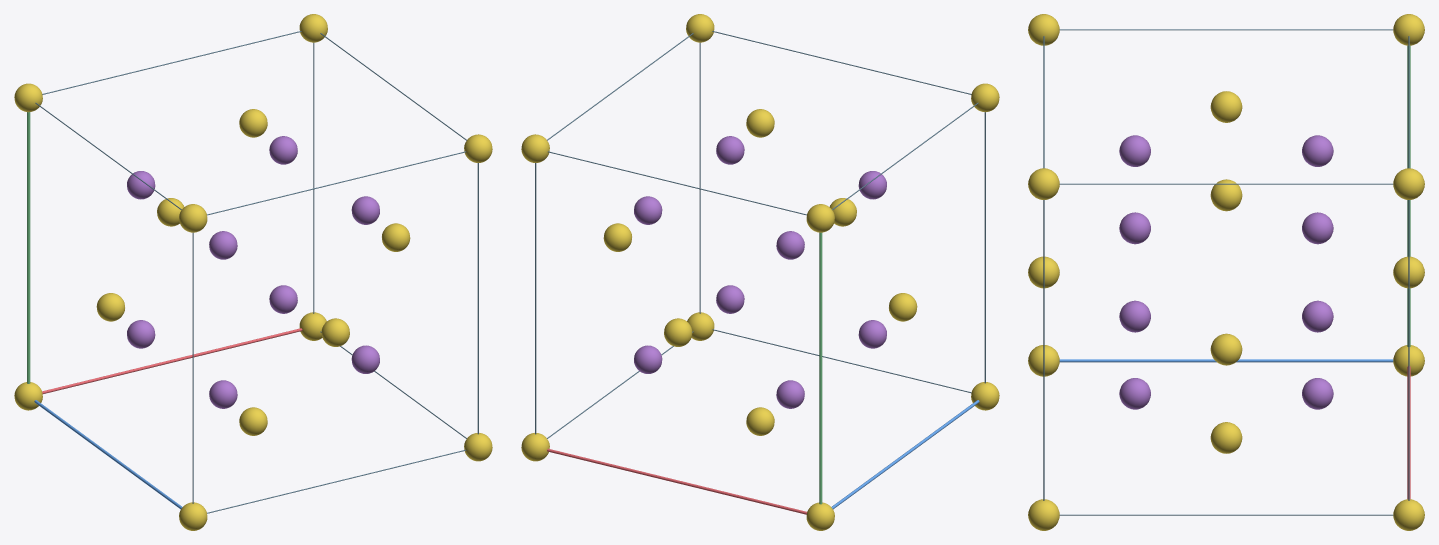
The model's file is chat-potassium-sulfide.glb.
3 views of the same model, side by side, from view 1: azimuth 30°, elevation 25°; view 2: azimuth 150°, elevation 25°; view 3: azimuth 270°, elevation 25° (orthographic). The views are drawn at different scales.
Visible parts, largest first — view 1: S · S · 1 (×14), Ô mạng và các trục a, b, c, K · K · 1 (×8); view 2: S · S · 1 (×14), Ô mạng và các trục a, b, c, K · K · 1 (×8); view 3: S · S · 1 (×14), K · K · 1 (×8), Ô mạng và các trục a, b, c.
Boxes of the visible parts, x1,y1,x2,y2 form: S · S · 1 (×14): [14, 14, 492, 530]; Ô mạng và các trục a, b, c: [27, 31, 478, 513]; K · K · 1 (×8): [127, 136, 379, 408]; S · S · 1 (×14): [521, 14, 999, 530]; Ô mạng và các trục a, b, c: [535, 31, 985, 514]; K · K · 1 (×8): [634, 136, 886, 408]; S · S · 1 (×14): [1028, 14, 1424, 530]; K · K · 1 (×8): [1119, 135, 1333, 409]; Ô mạng và các trục a, b, c: [1043, 29, 1410, 515].
Bounding box in the file's own units: 7.99 × 7.99 × 7.99.
